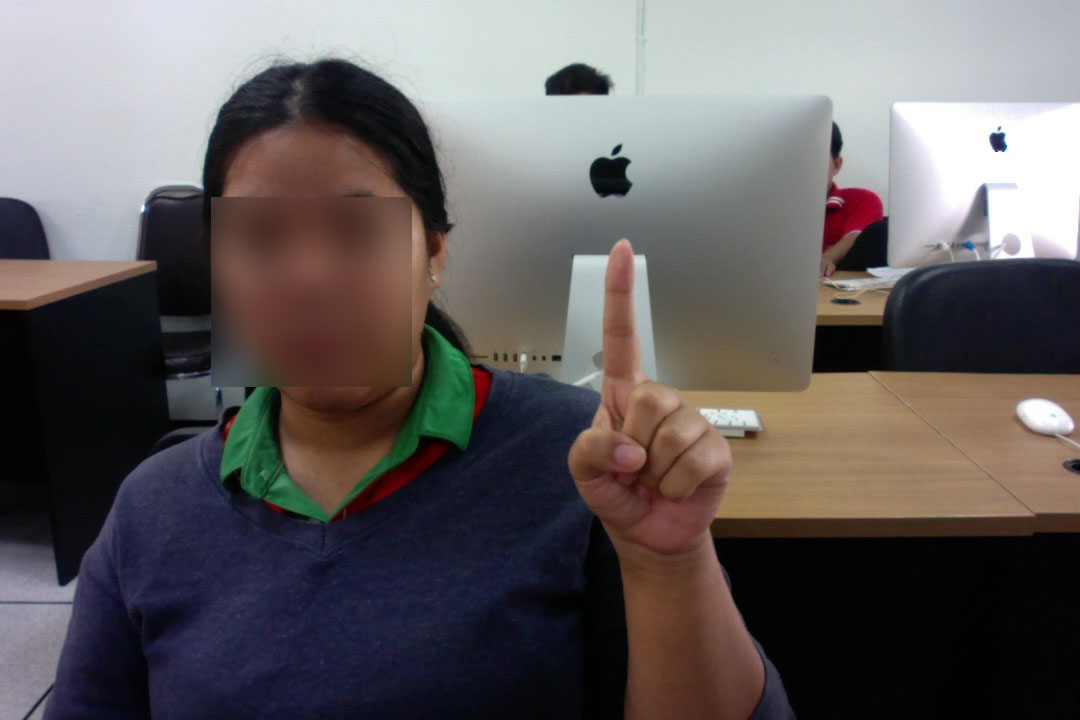dor: (559, 232, 743, 572)
